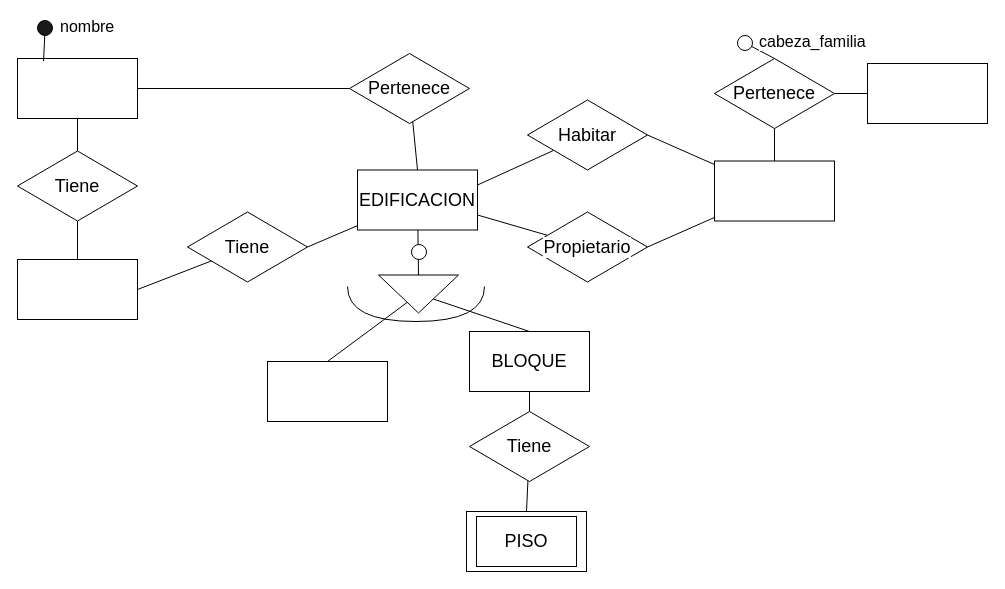
The diagram is 1005 pixels wide and 589 high, and some of its shapes have lost their labels. Each missing label, with the centre of its shape:
CALLE: the point at 77,289
CASA: the point at 327,391
FAMILIA: the point at 927,93
PERSONA: the point at 774,190
ZONA URBANA: the point at 77,88
